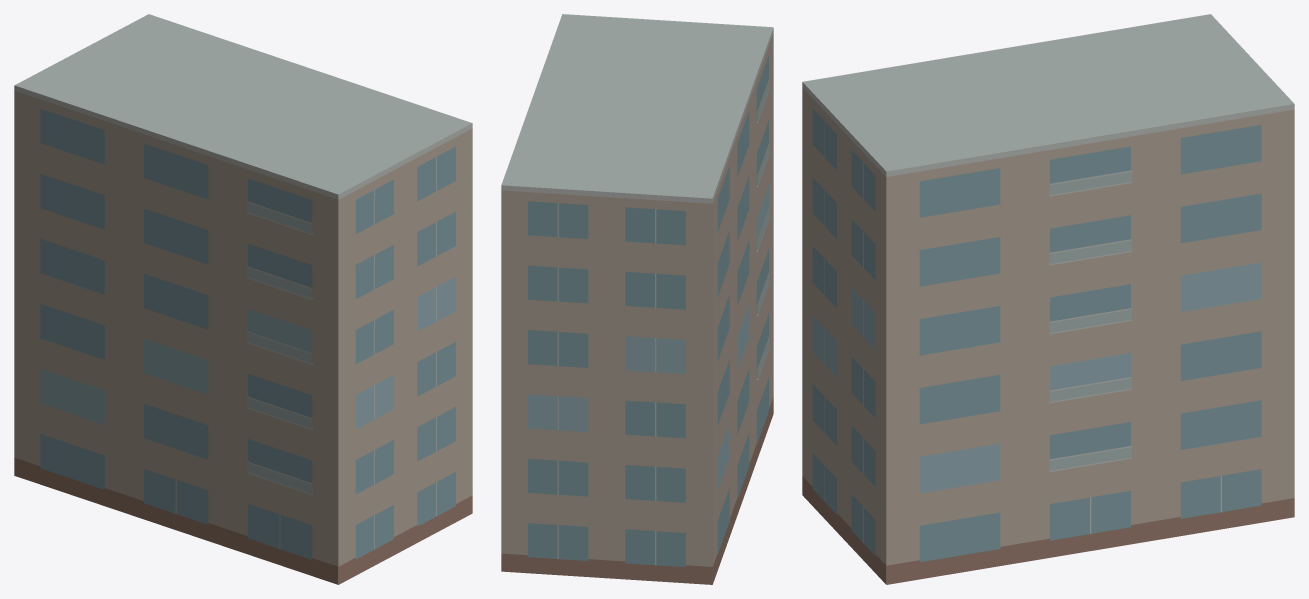
The model's file is survey-upis-33040483.glb.
3 views of the same model, side by side, from view 1: azimuth 30°, elevation 25°; view 2: azimuth 150°, elevation 25°; view 3: azimuth 270°, elevation 25° (orthographic). The views are drawn at different scales.
Visible parts, largest first — view 1: survey-upis-33040483.tmp; view 2: survey-upis-33040483.tmp; view 3: survey-upis-33040483.tmp.
Boxes of the visible parts, x1,y1,x2,y2 form: survey-upis-33040483.tmp: [14, 14, 472, 584]; survey-upis-33040483.tmp: [501, 14, 773, 584]; survey-upis-33040483.tmp: [802, 14, 1294, 584].
Bounding box in the file's own units: 14.98 × 18.3 × 19.76.
